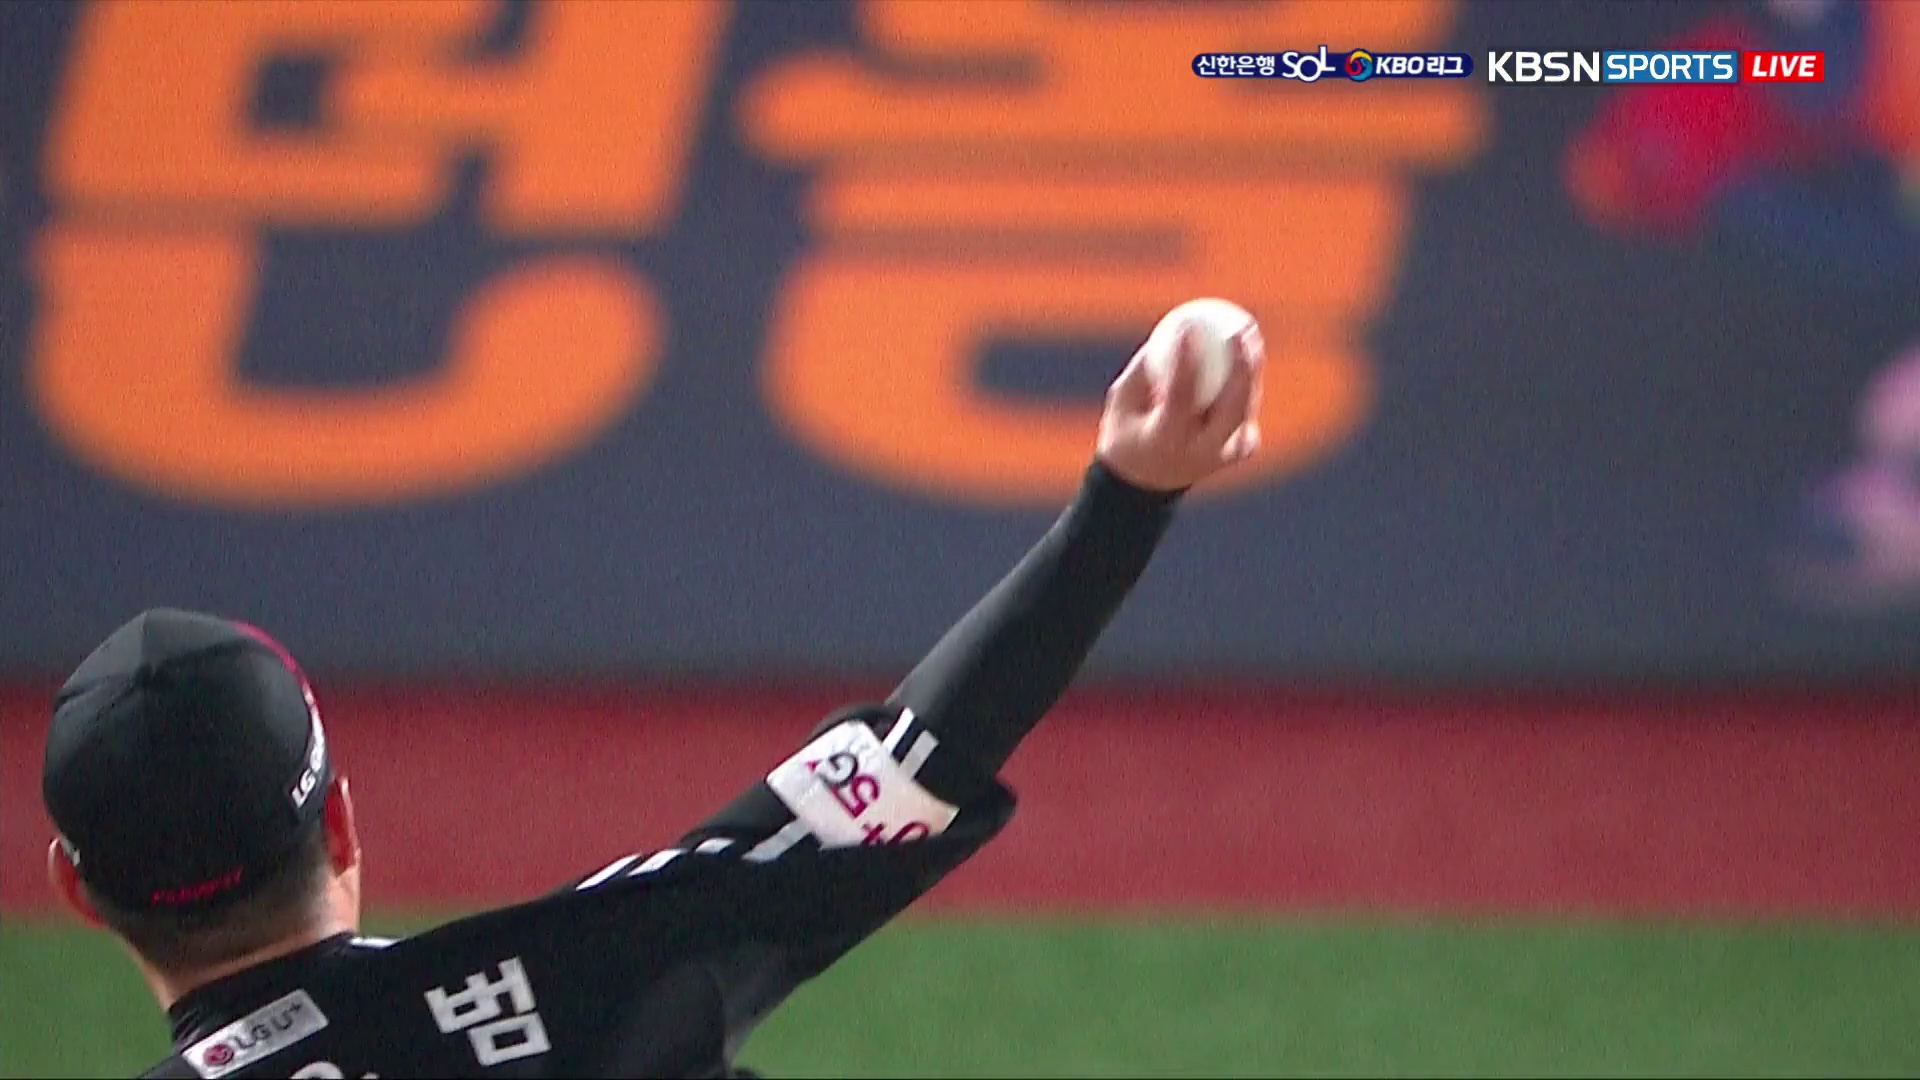zoomin_hand: (795, 289, 1280, 887)
